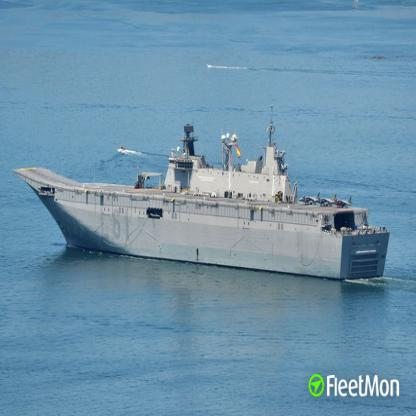Military Ship: (12, 103, 390, 280)
